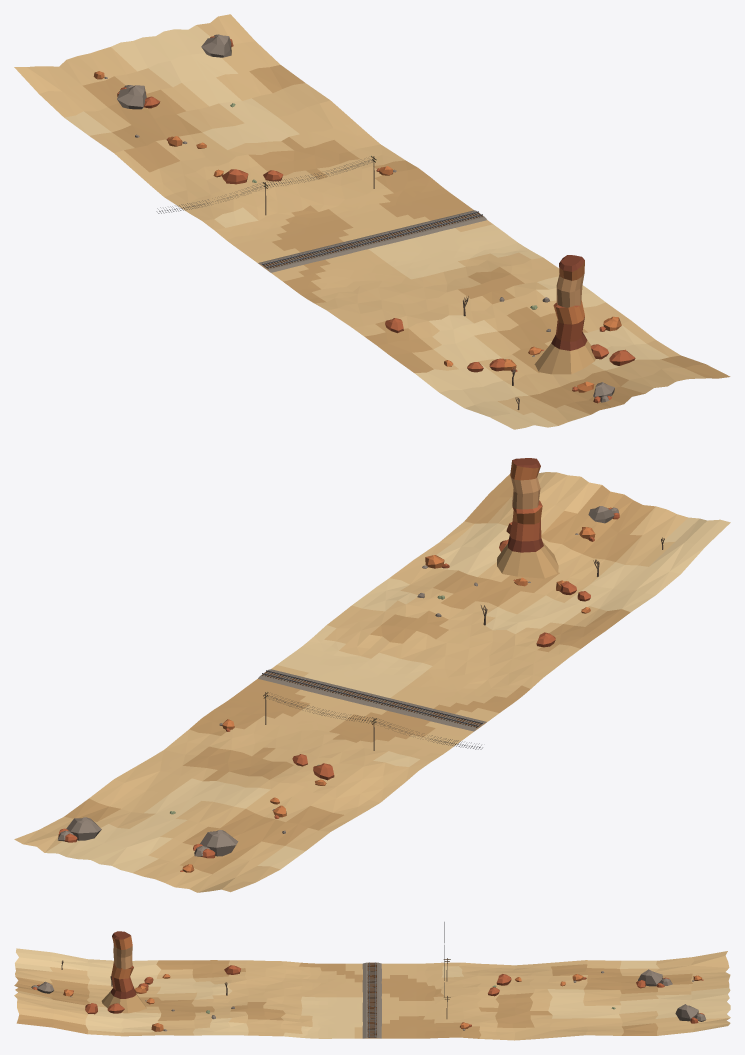
The model's file is chunk_rocky_a.glb.
The picture shows the model from 3 angles, top to bottom: view 1: azimuth 30°, elevation 25°; view 2: azimuth 150°, elevation 25°; view 3: azimuth 270°, elevation 25°; orthographic projection. The views are drawn at different scales.
Visible parts, largest first — view 1: FG_Chunk_Rocky_A_Track; view 2: FG_Chunk_Rocky_A_Track; view 3: FG_Chunk_Rocky_A_Track.
Part boxes in pixels (<box>): FG_Chunk_Rocky_A_Track: <box>14,14,730,429</box>; FG_Chunk_Rocky_A_Track: <box>14,458,730,892</box>; FG_Chunk_Rocky_A_Track: <box>14,922,730,1040</box>.
Bounding box in the file's own units: 62.51 × 23.91 × 201.
